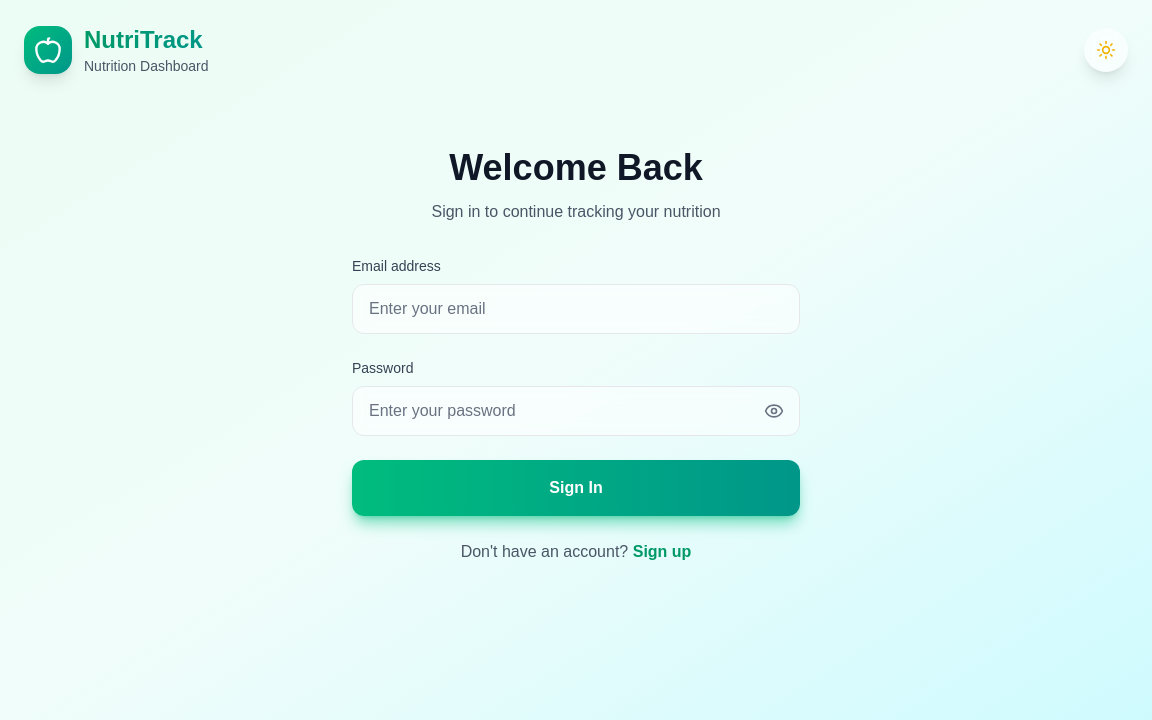
Scenario: Login Page › Form Validation › should show error for invalid email format
Type "invalidemail" into the field named "email" at coordinates (576, 309), box top-left (352, 284), bottom-right (800, 334)
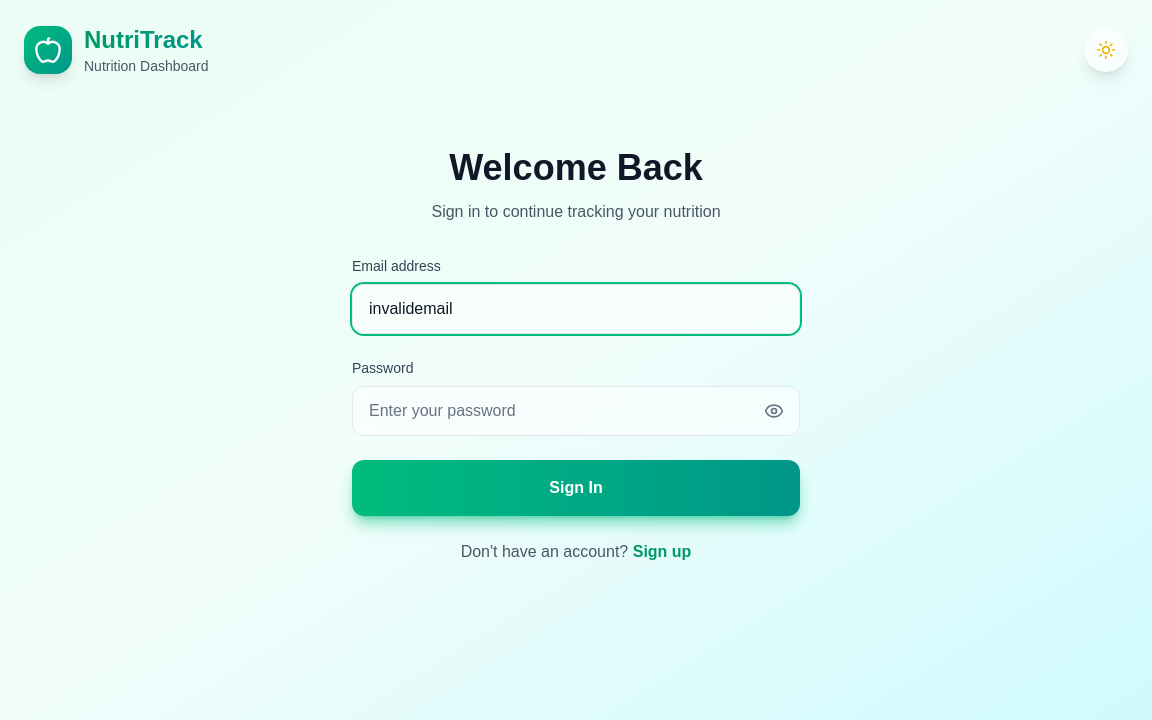
Type "password123" into the password field named "password" at coordinates (576, 411), box top-left (352, 386), bottom-right (800, 436)
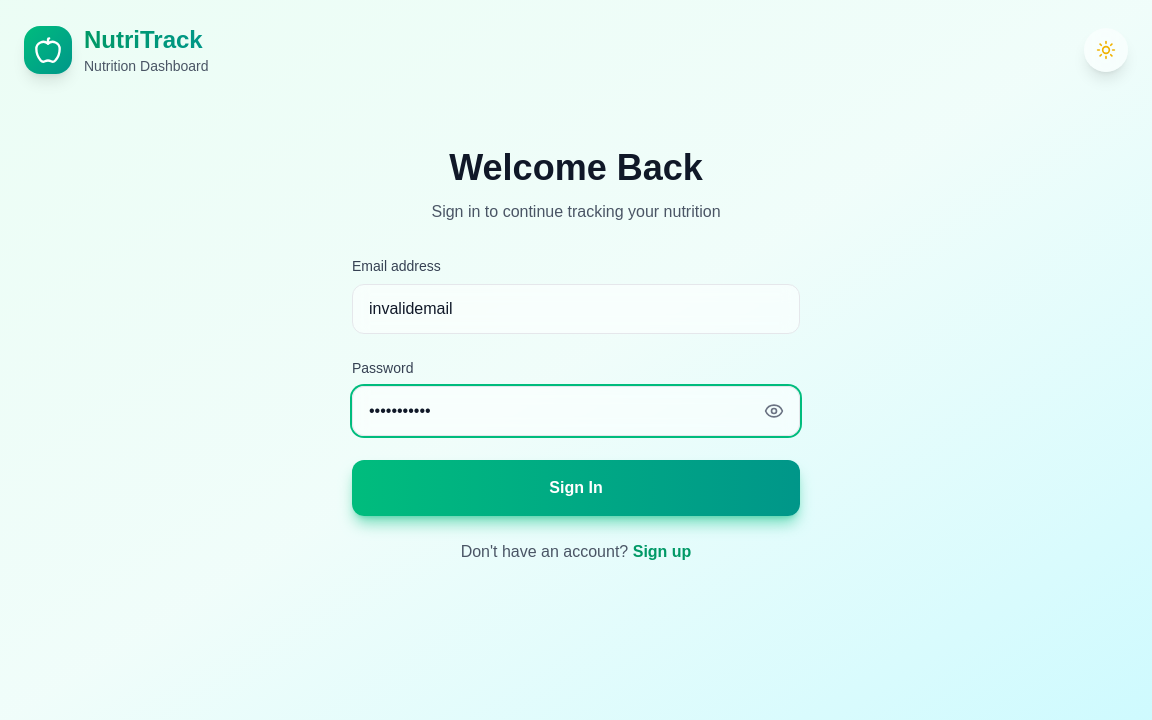
Click the button "Sign In" at coordinates (576, 488), box top-left (352, 460), bottom-right (800, 516)
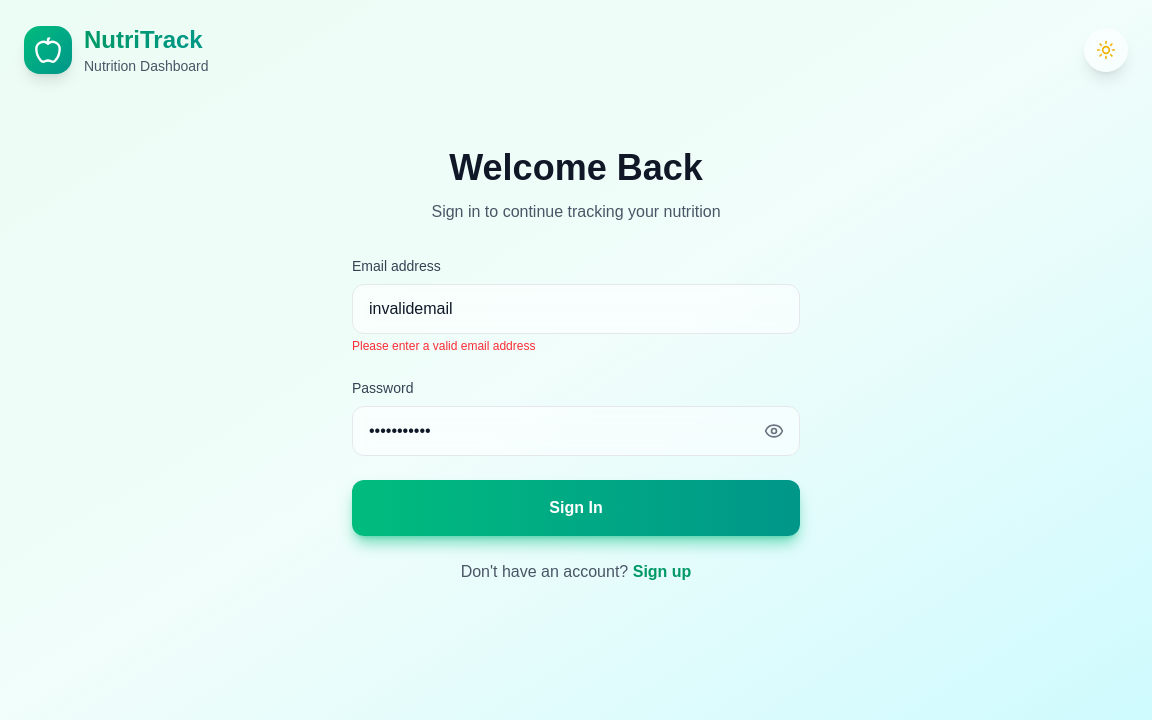
Expected: the text "Please enter a valid email address" is shown, top-left (352, 339), bottom-right (535, 353)
